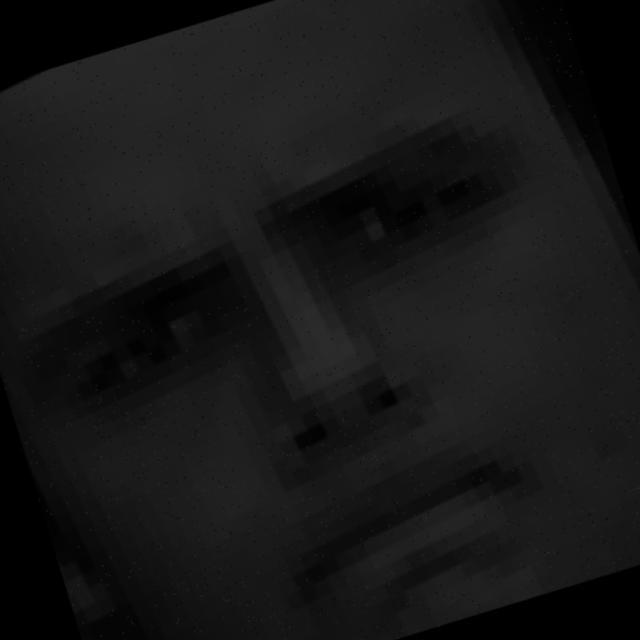Disgust: (35, 96, 592, 640)
